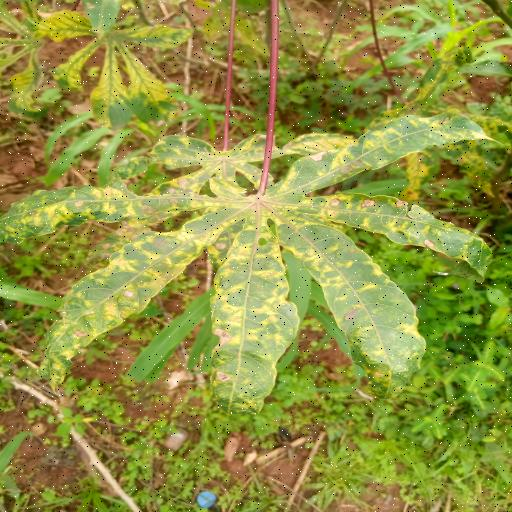Cassava_Mosaic: (4, 109, 500, 408)
